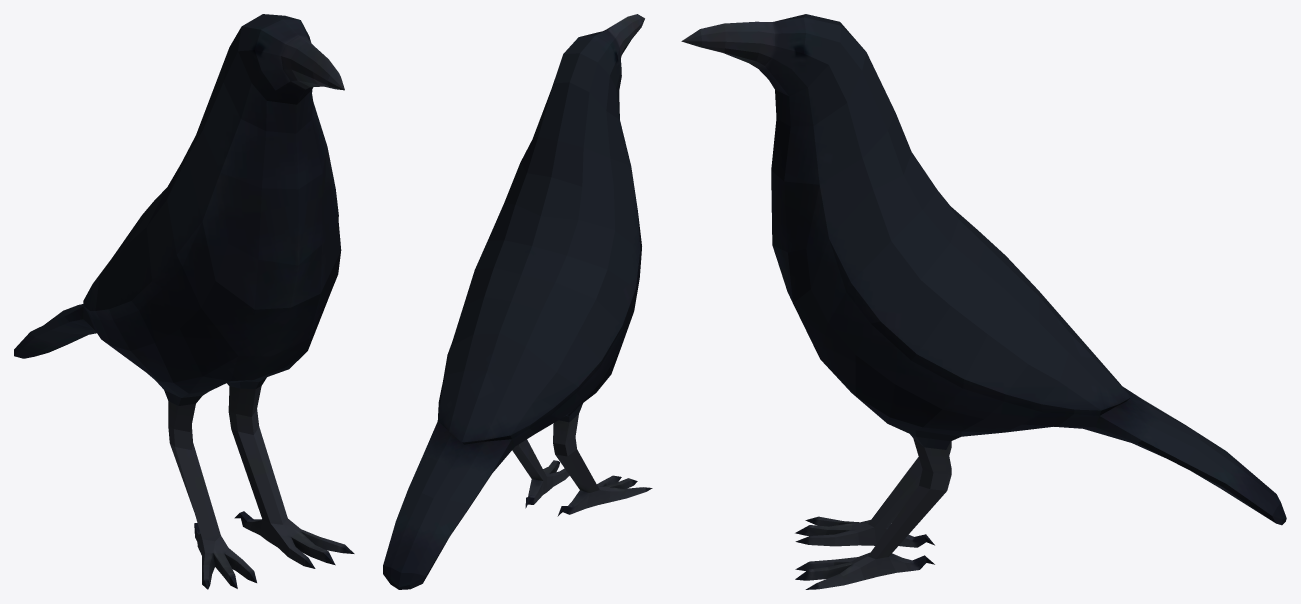
File: animals-raven-165.glb
3 renders of one model, left to right at view 1: azimuth 30°, elevation 25°; view 2: azimuth 150°, elevation 25°; view 3: azimuth 270°, elevation 25°, orthographic. The views are drawn at different scales.
Visible parts, largest first — view 1: Raven_mesh; view 2: Raven_mesh; view 3: Raven_mesh.
Boxes of the visible parts, x1,y1,x2,y2 form: Raven_mesh: (14, 14, 354, 589); Raven_mesh: (383, 14, 652, 589); Raven_mesh: (681, 14, 1286, 589).
Size of the model in its own units: 4.54 by 13.02 by 13.24.
Materials: 1 (1 with a texture image).
